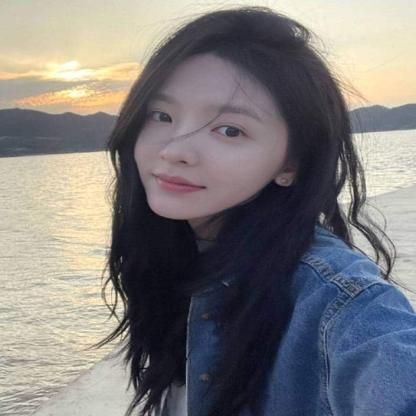person: (118, 9, 340, 219)
